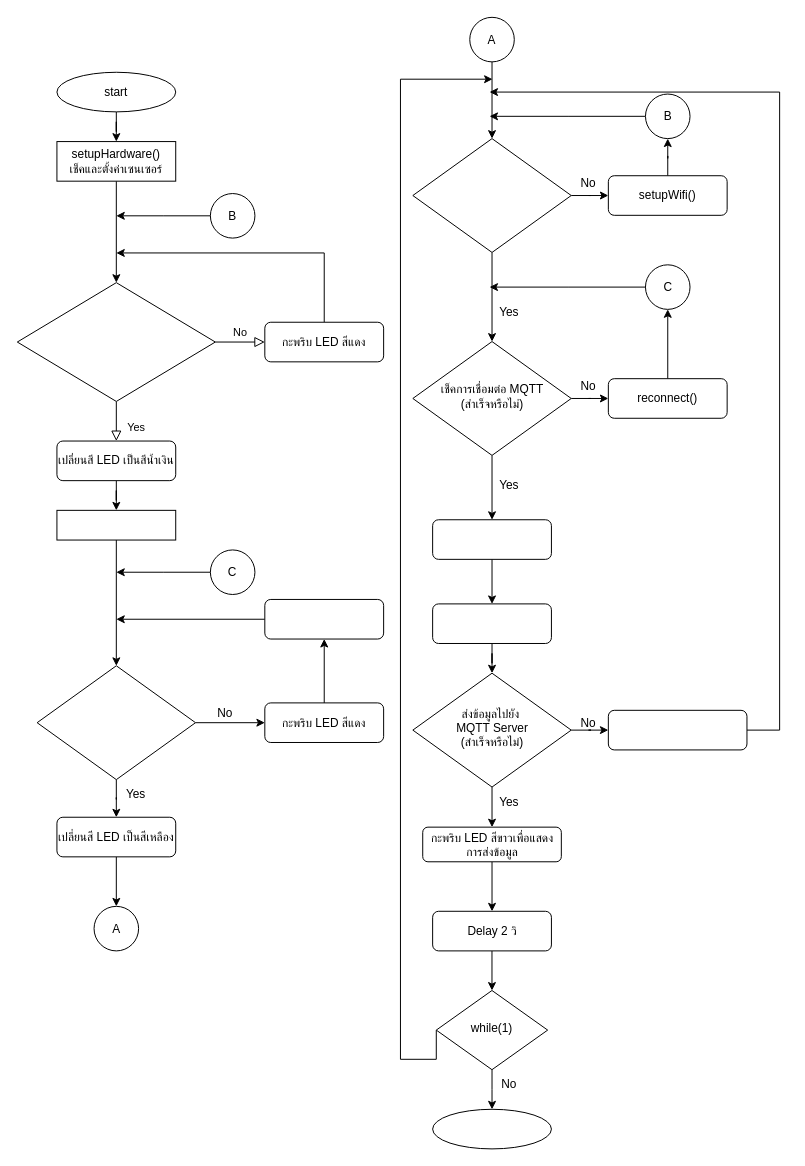
The diagram is 805 pixels wide and 1166 high, and some of its shapes have lost their labels. Here are the shapes that lost their labels. From the top down, the box of each, then its label:
(412, 138, 571, 252): เช็คการเชื่อมต่อ WiFi (สำเร็จหรือไม่)
(16, 282, 215, 401): setupWifi() โดยใช้ ssid และ password
(56, 509, 176, 540): client.setServer()
(432, 519, 551, 559): อ่านข้อมูลจากเซนเซอร์ต่างๆ
(264, 598, 384, 639): Delay 5 วิ
(432, 603, 551, 644): สร้าง JSON ข้อมูลเซนเซอร์
(36, 665, 196, 780): เชื่อมต่อกับ MQTT reconnect()
(607, 709, 747, 750): เปลี่ยนสี LED เป็นสีแดง
(432, 1108, 551, 1149): END
